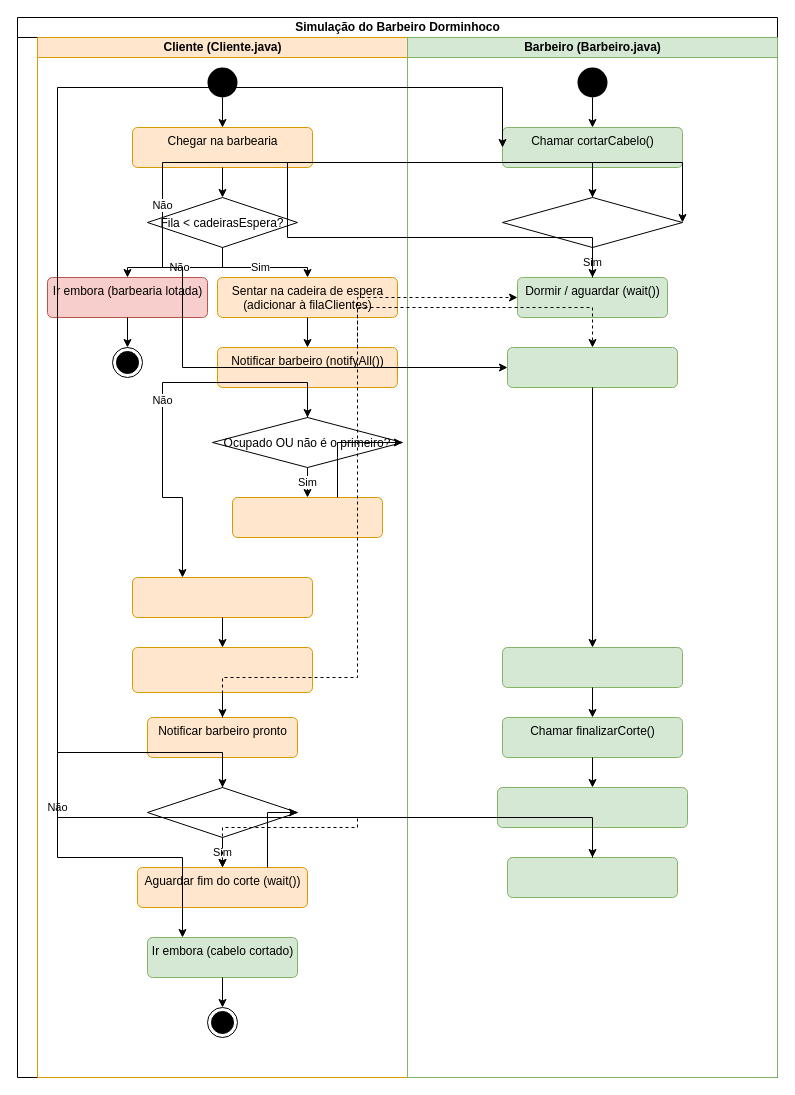
Image size: 795x1095. Some labels were removed from this diagram. Here are the shapes that lost their labels. From the top down, the centre of each, then its label:
At (592,222): "Fila vazia E sem cliente?".
At (592,367): "Acordar (clientePronto = false)".
At (307,517): "Aguardar vez (wait())".
At (222,597): "Sair da fila de espera (filaClientes.remove(0))".
At (222,669): "Ocupar cadeira de corte (barbeiroOcupado = true)".
At (592,667): "Realizar corte (sleep 1s-3s)".
At (222,812): "barbeiroOcupado?".
At (592,807): "Liberar barbeiro (ocupado = false)".
At (592,877): "Notificar cliente (notifyAll())".
